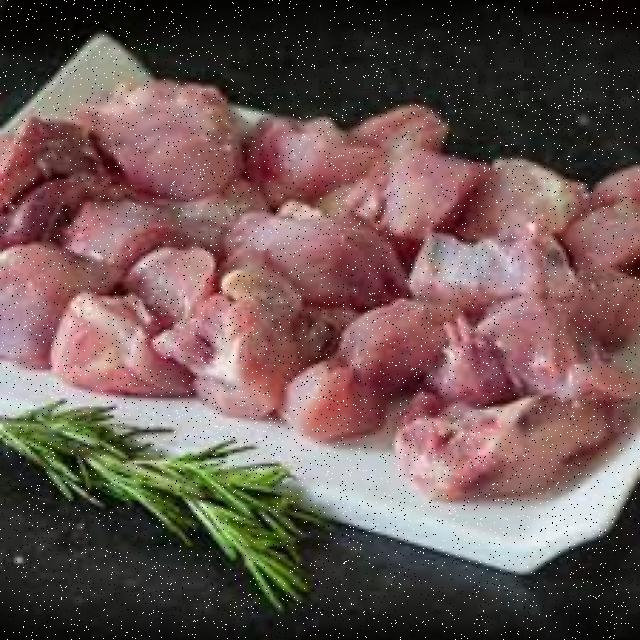Chicken: (84, 179, 624, 467)
